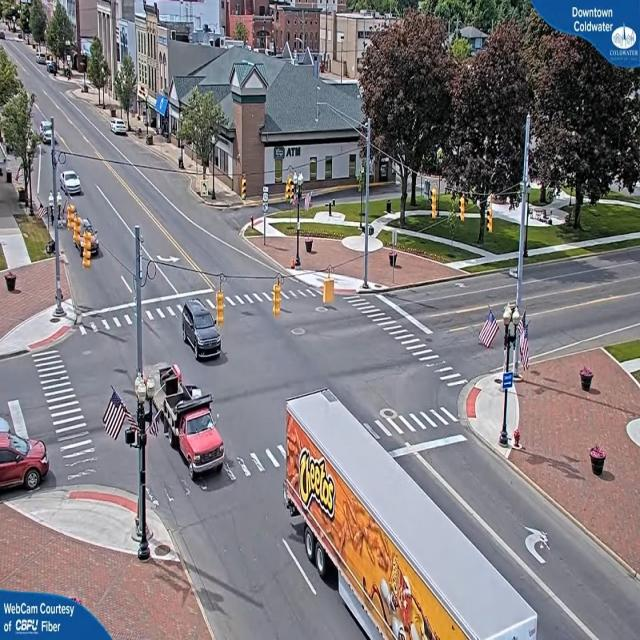car: (0, 429, 50, 498), (182, 299, 222, 359), (62, 171, 84, 196), (112, 120, 129, 136)
truck: (153, 364, 226, 478)
